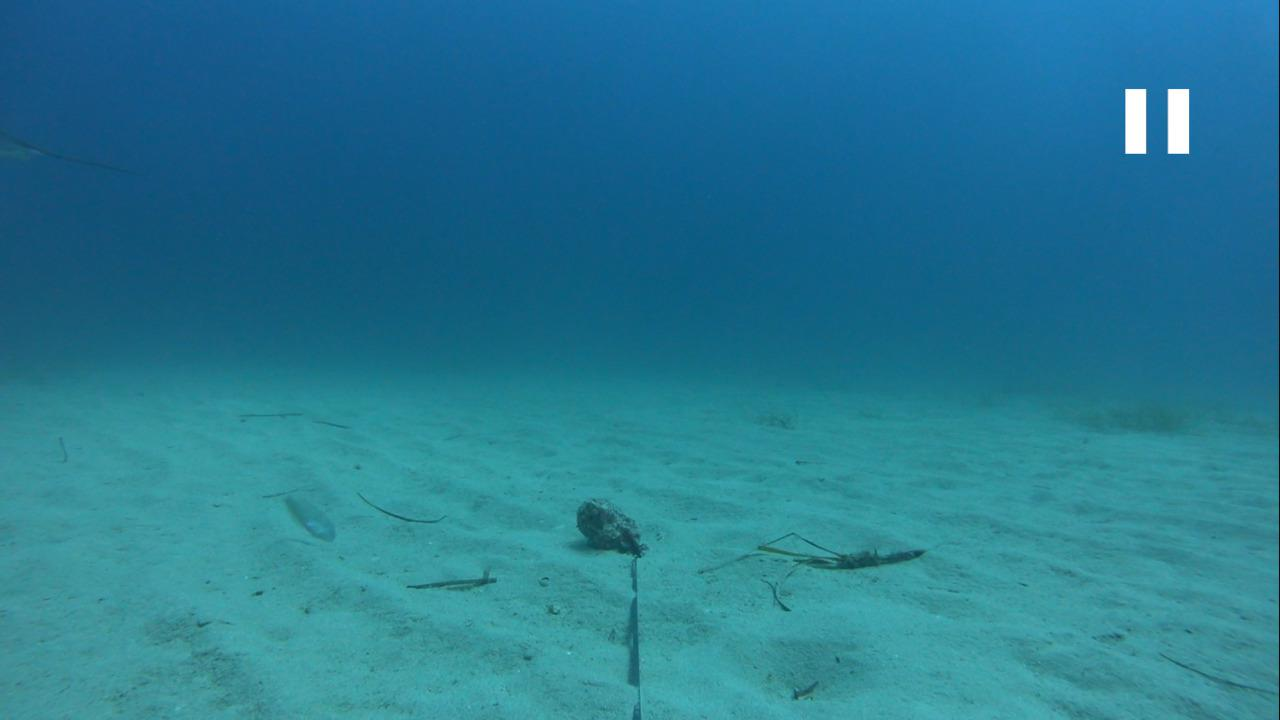myliobatis: (1, 117, 170, 190)
raor: (274, 484, 336, 541)
